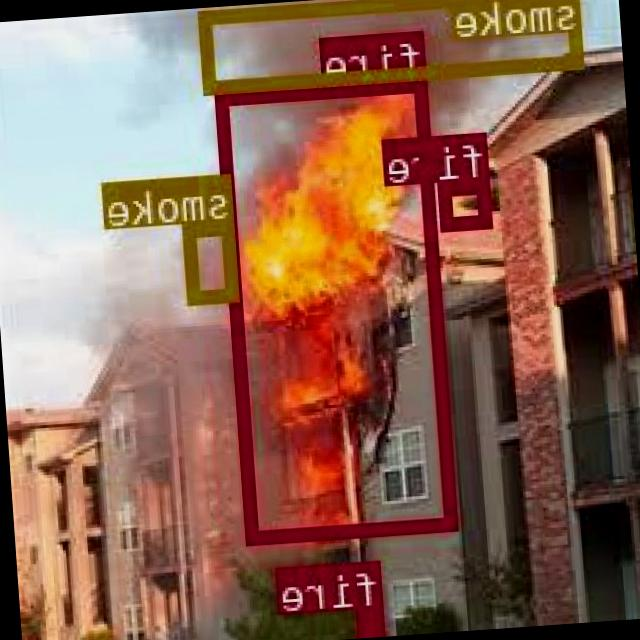fire: (218, 74, 460, 540), (439, 178, 494, 226), (361, 604, 387, 632)
smoke: (201, 0, 586, 90), (186, 218, 240, 300)
